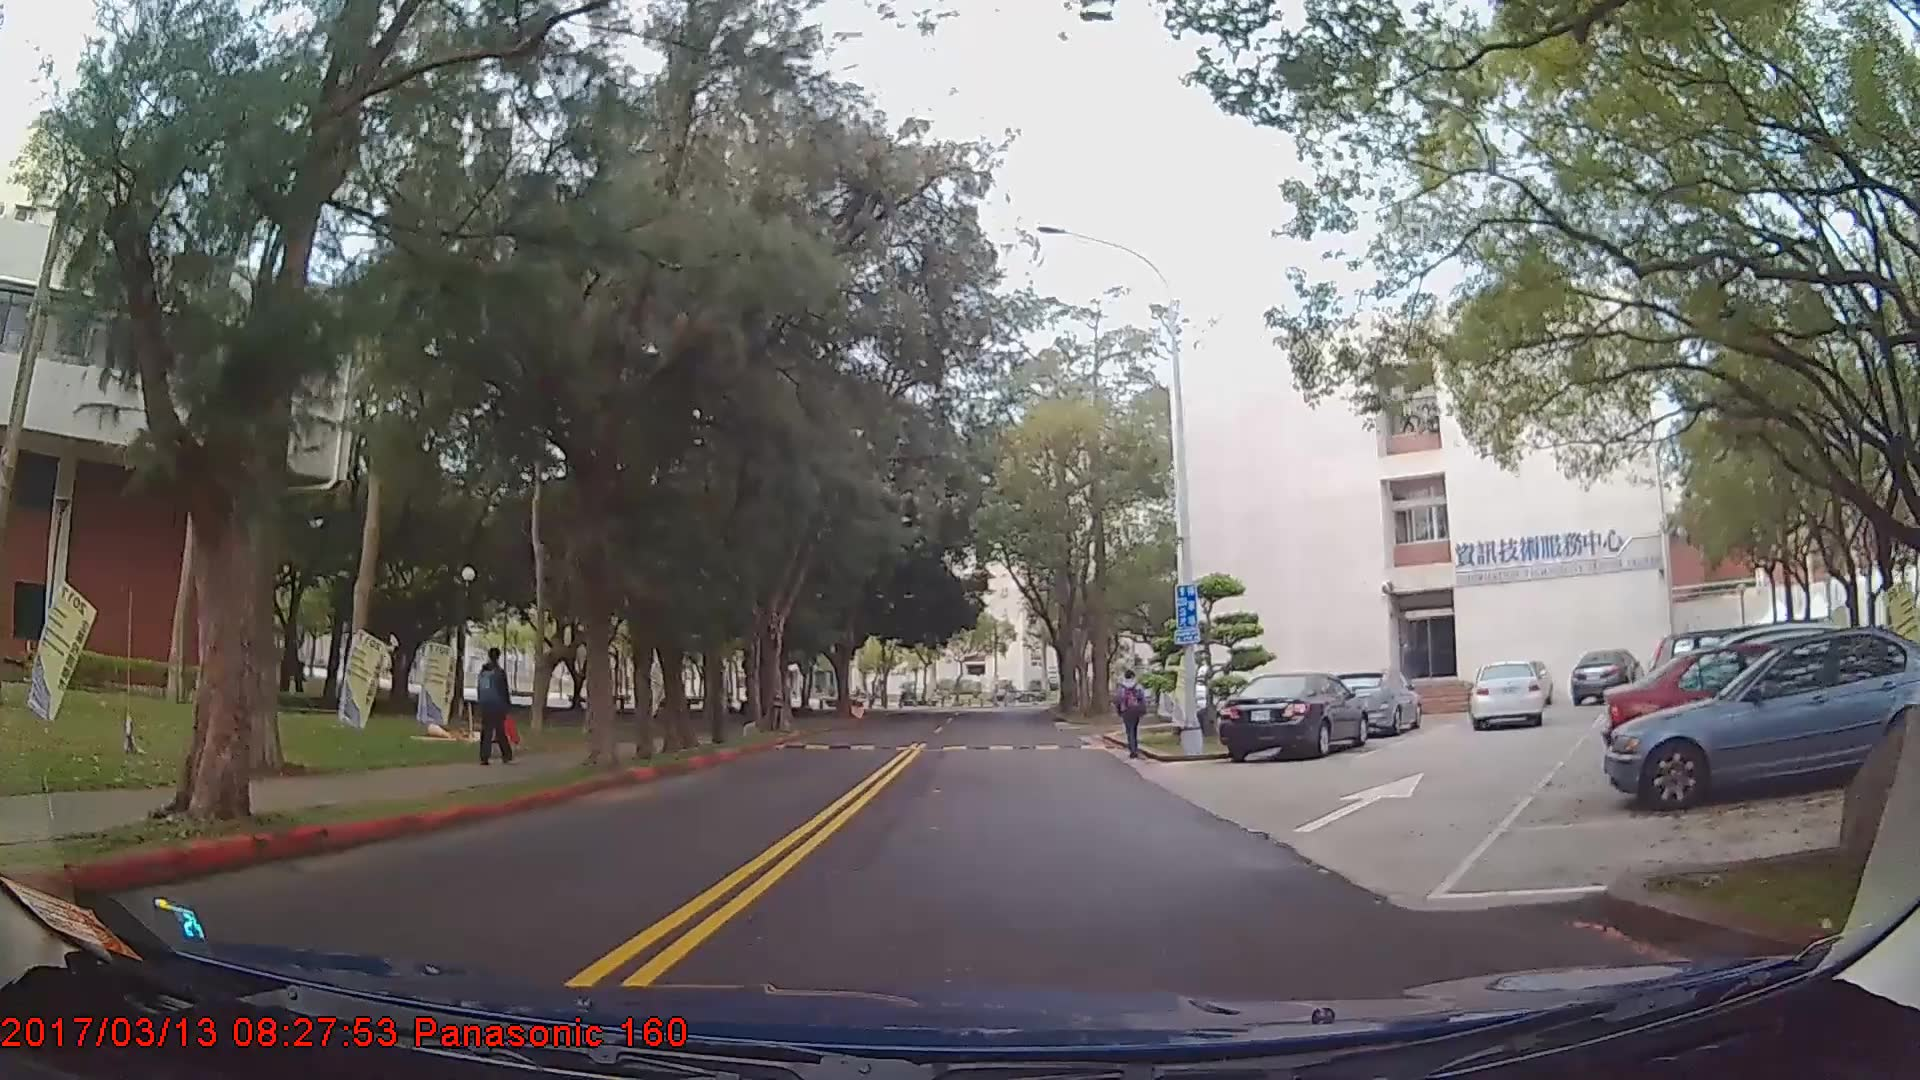pedestrian: (475, 648, 515, 768), (1117, 670, 1150, 760)
vehicle: (1604, 623, 1920, 811), (1601, 632, 1914, 768), (1220, 669, 1370, 760), (1329, 664, 1422, 734), (1469, 661, 1544, 729), (1570, 646, 1641, 702)
